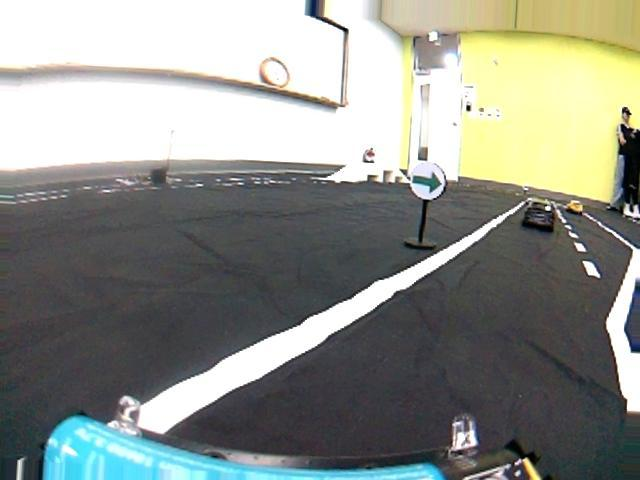car: (514, 189, 565, 240), (565, 195, 587, 212)
right: (25, 319, 640, 478)
sign_right: (405, 155, 449, 200)
